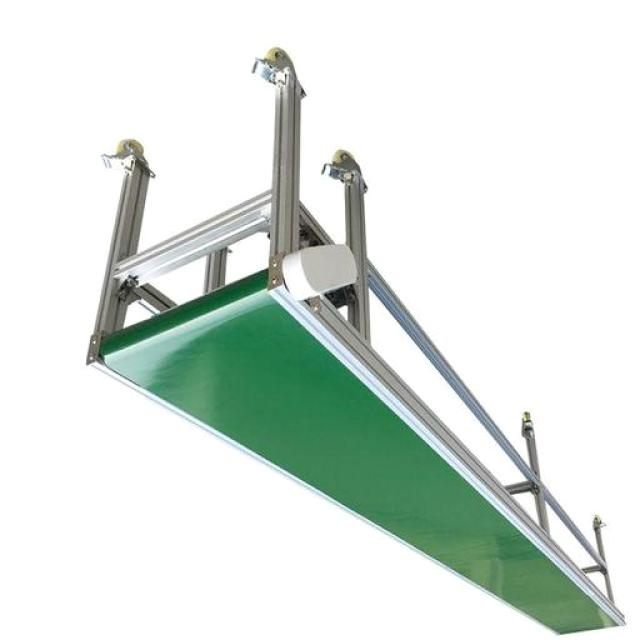conveyor: (86, 271, 623, 635)
